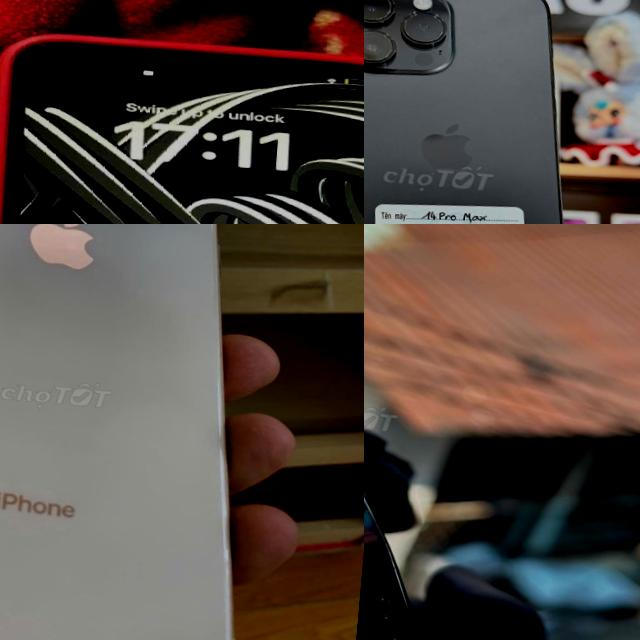gen_14: (364, 0, 596, 224)
gen_7_8: (0, 224, 303, 640)
gen_x_xs: (0, 22, 364, 224)
scratch: (16, 34, 88, 78)
